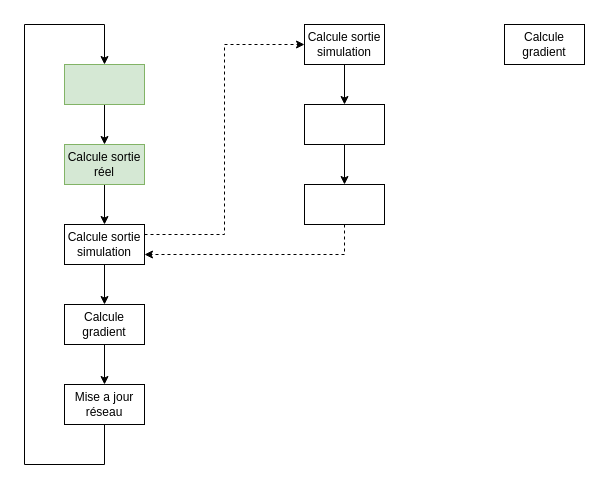
Image size: 602x490. Some labels were removed from this diagram. Here are the shapes that lost their labels. From the top down, the box of each, then its label:
(64, 64, 144, 104): Créer entrée
(304, 104, 384, 144): Multiplication matricielle
(304, 184, 384, 224): Appliquer fonction sur vecteur
